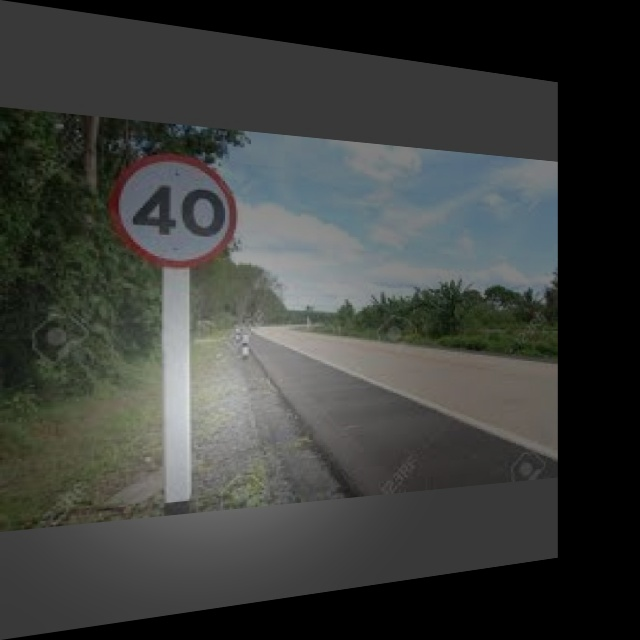Speed_Limit_40: (114, 142, 236, 268)
